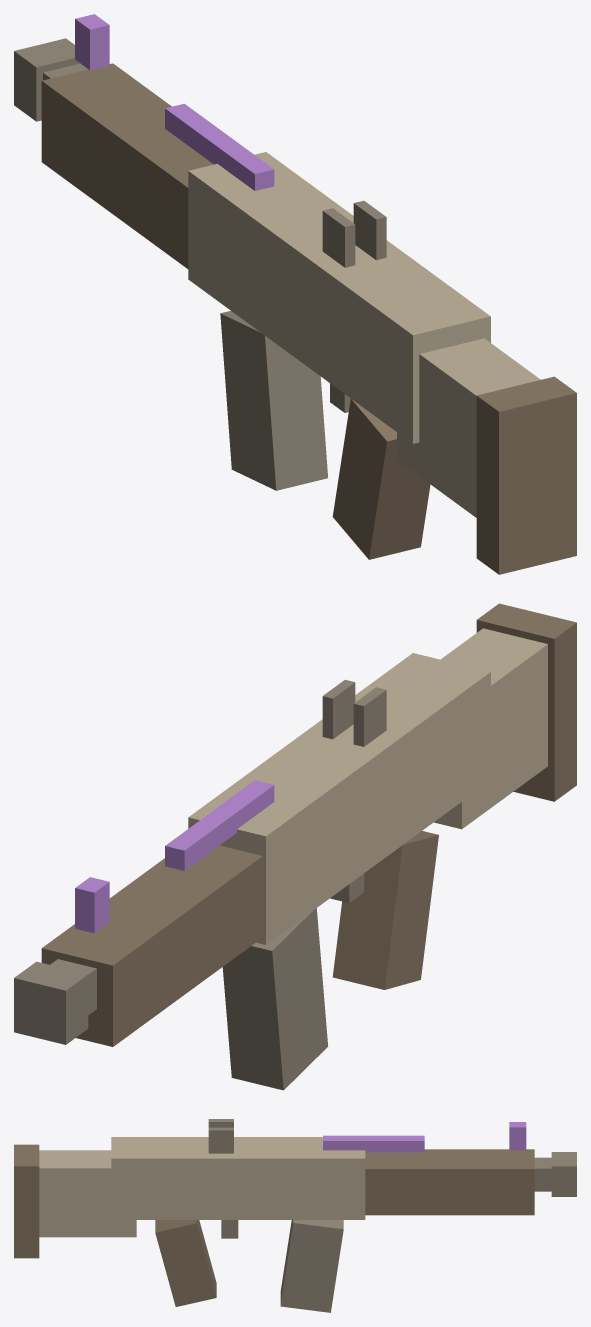
File: pulse_dune.glb
3 views of the same model, one above another, from view 1: azimuth 30°, elevation 25°; view 2: azimuth 150°, elevation 25°; view 3: azimuth 270°, elevation 25° (orthographic). The views are drawn at different scales.
Visible parts, largest first — view 1: weapon.pulse.dune; view 2: weapon.pulse.dune; view 3: weapon.pulse.dune.
Boxes of the visible parts, x1=… form: weapon.pulse.dune: x1=14, y1=14, x2=576, y2=574; weapon.pulse.dune: x1=14, y1=603, x2=576, y2=1090; weapon.pulse.dune: x1=14, y1=1119, x2=576, y2=1312.
Bounding box in the file's own units: 0.06 × 0.2359 × 0.665.
